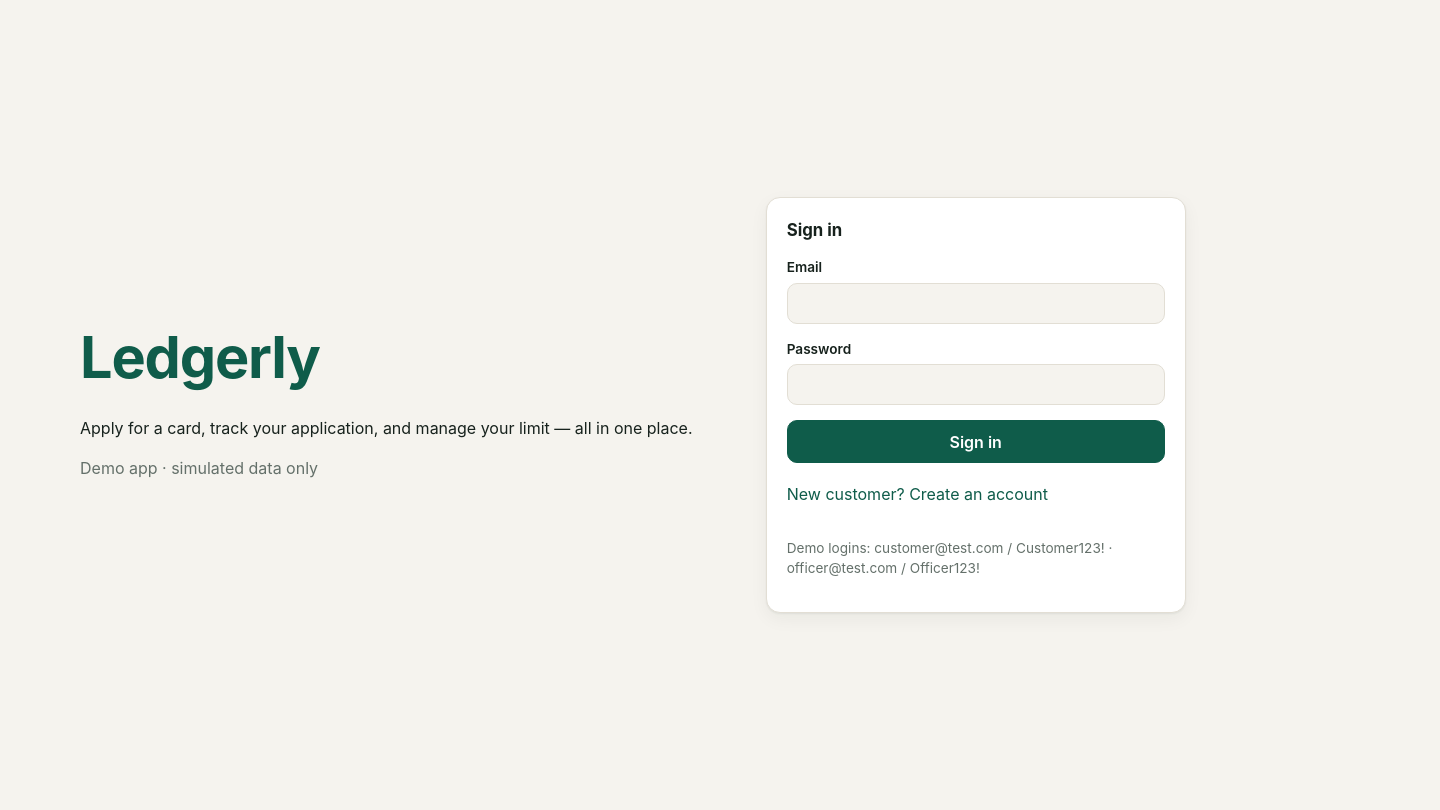
Login › routes a customer to the customer dashboard after login
Type "c@test.com" into the field labelled "Email". click: (976, 303)
box: [787,283,1165,324]
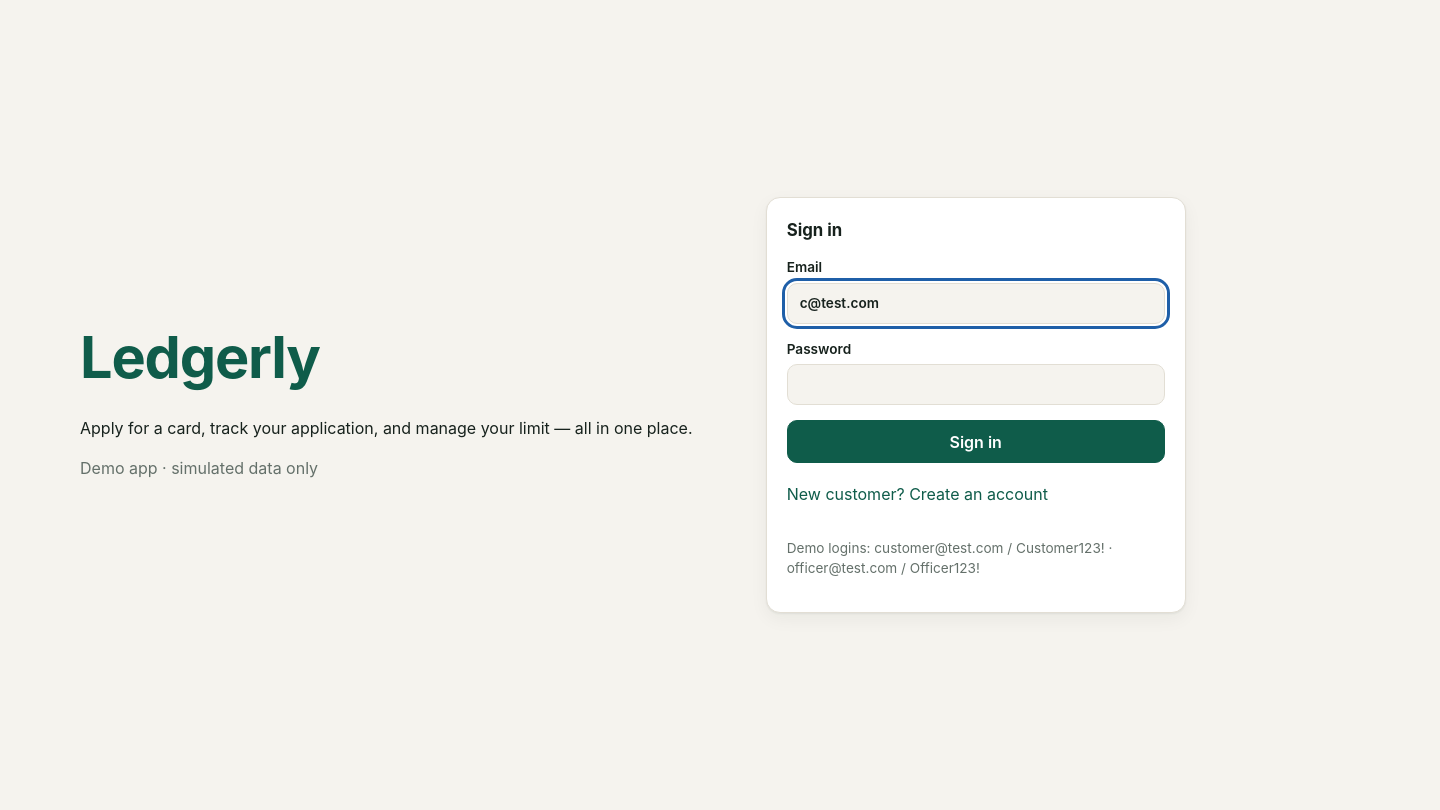
Type "Customer123!" into the password field labelled "Password". click: (976, 385)
box: [787,364,1165,405]
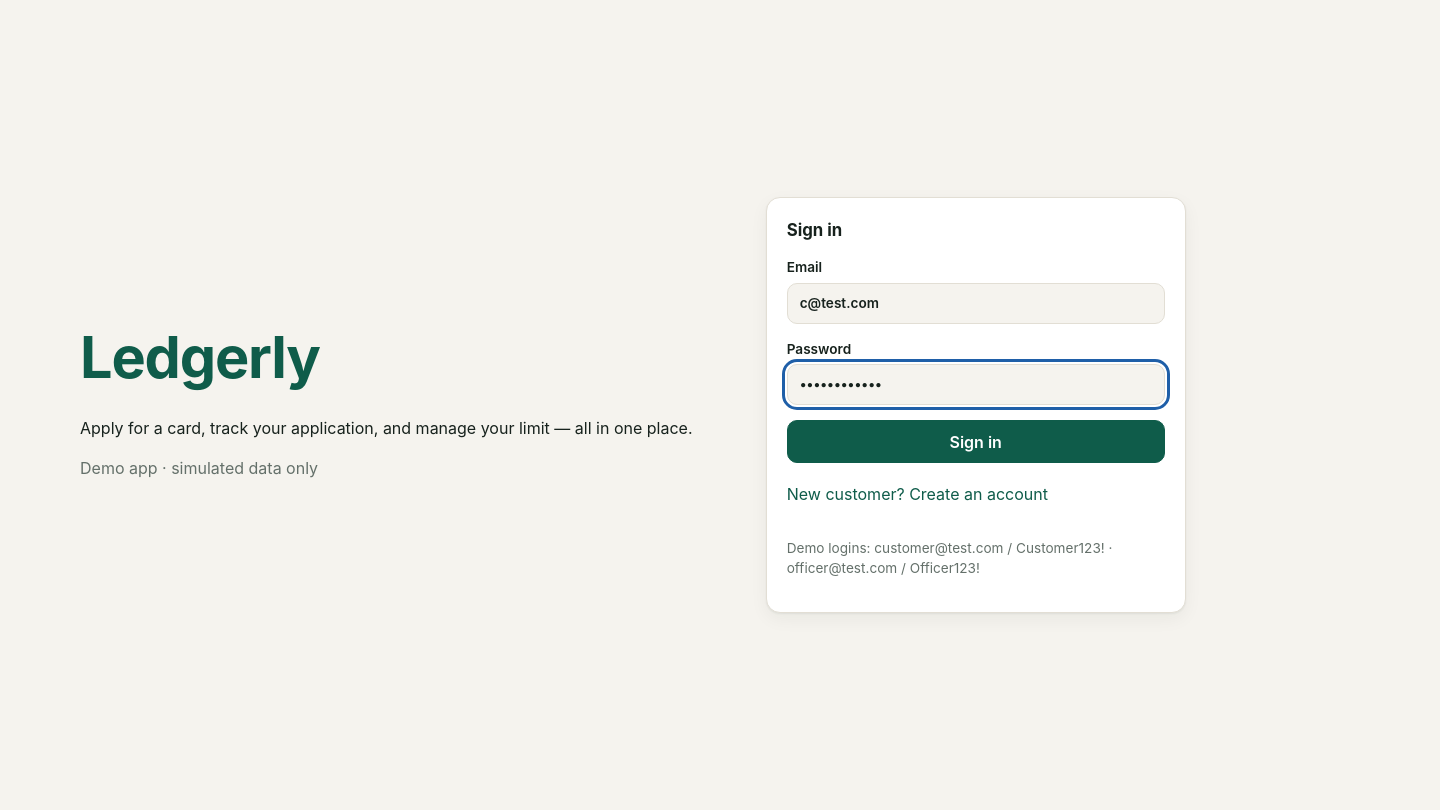
Click the button "Sign in". click: (976, 442)
box: [787,420,1165,463]
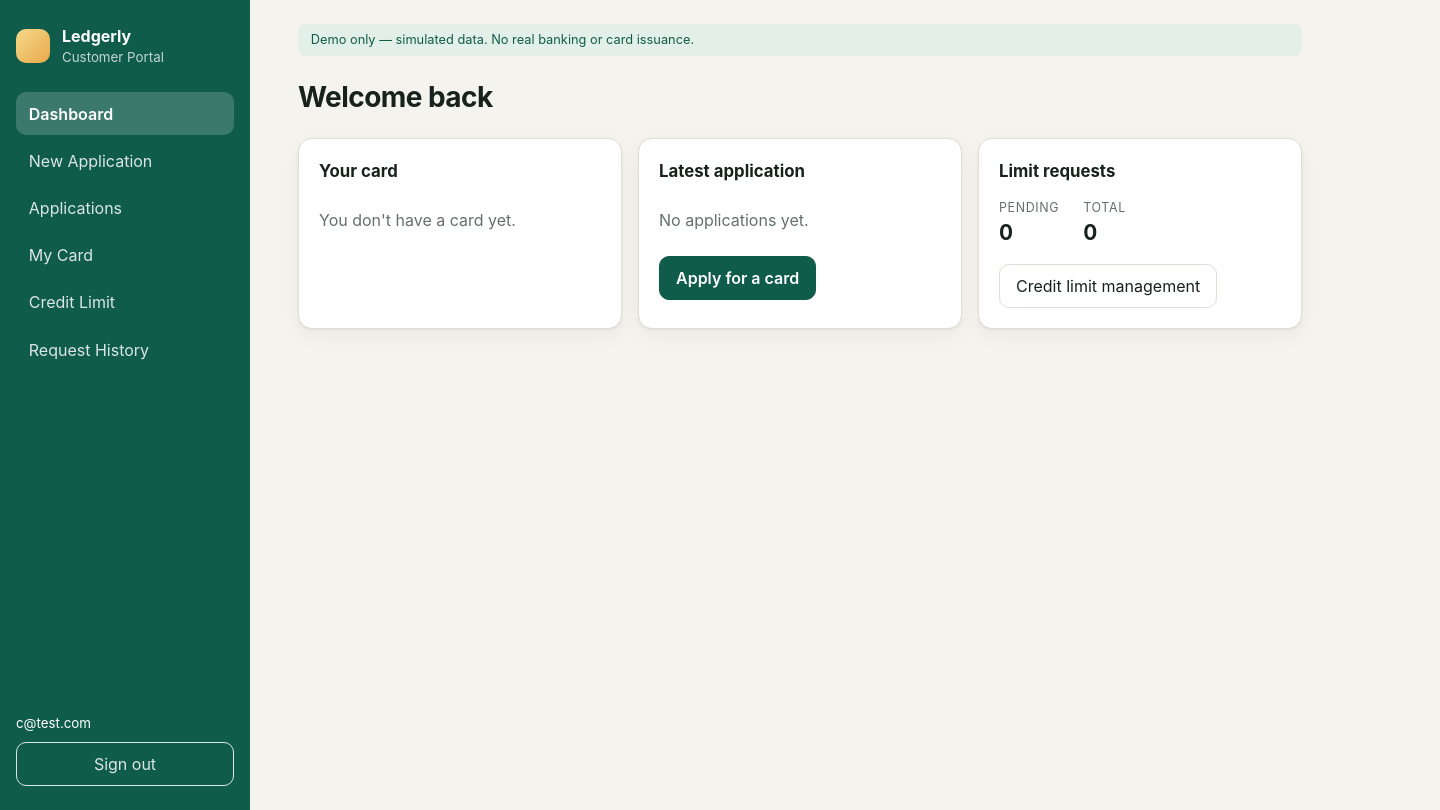
Result: the text "Customer Portal" is shown at [62,48,164,68]
